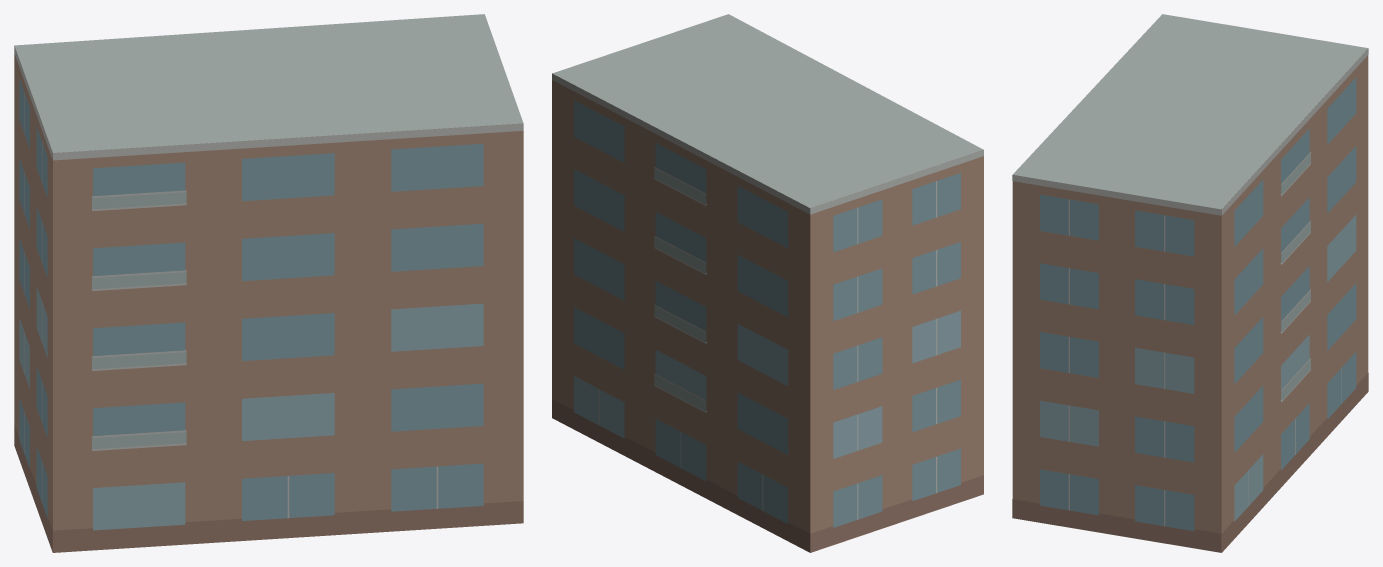
File: survey-upis-33036494.glb
3 views of the same model, side by side, from view 1: azimuth 30°, elevation 25°; view 2: azimuth 150°, elevation 25°; view 3: azimuth 270°, elevation 25° (orthographic). The views are drawn at different scales.
Parts seen in each view (by area): view 1: survey-upis-33036494.tmp; view 2: survey-upis-33036494.tmp; view 3: survey-upis-33036494.tmp.
Boxes of the visible parts, bbox=[...] form: survey-upis-33036494.tmp: bbox=[14, 14, 523, 552]; survey-upis-33036494.tmp: bbox=[552, 14, 983, 552]; survey-upis-33036494.tmp: bbox=[1012, 14, 1368, 552].
Bounding box in the file's own units: 16.12 × 13.2 × 12.41.
